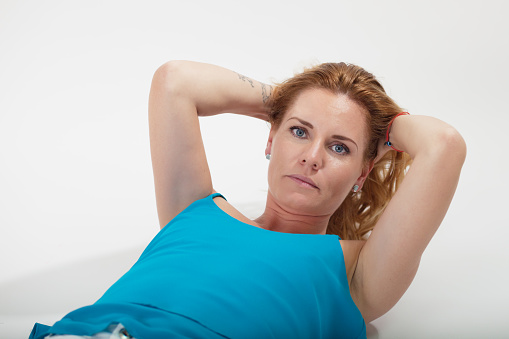deitado: (62, 53, 412, 339)
